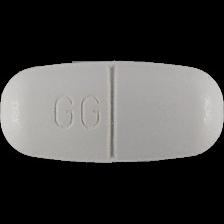0781-1852: (0, 0, 224, 224)
